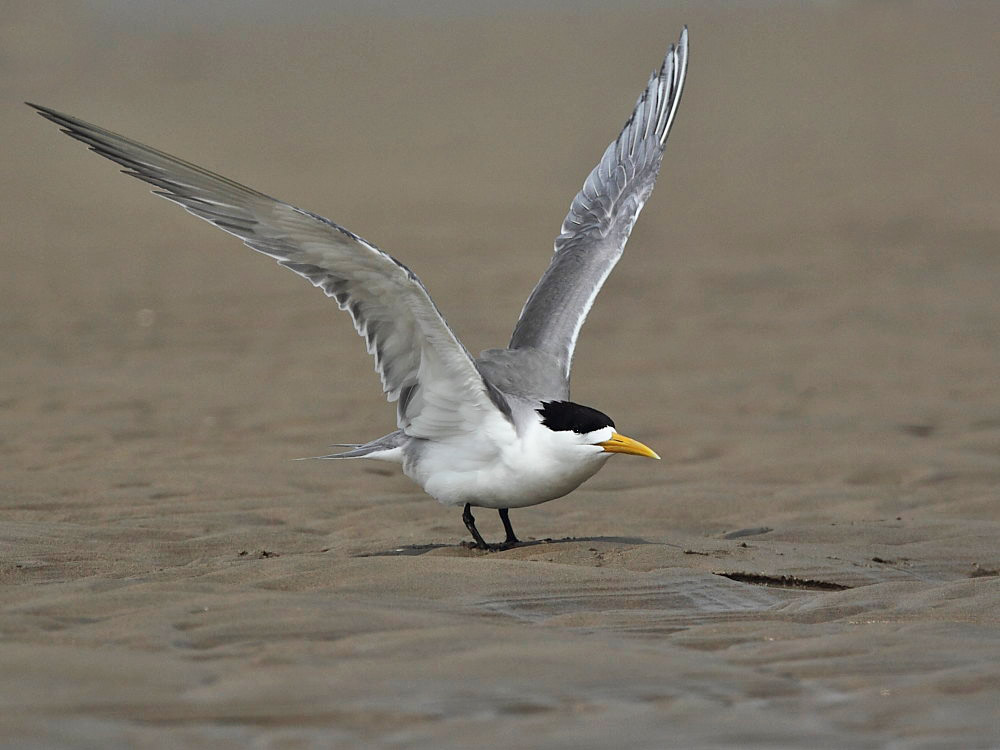bird: (14, 23, 695, 552)
